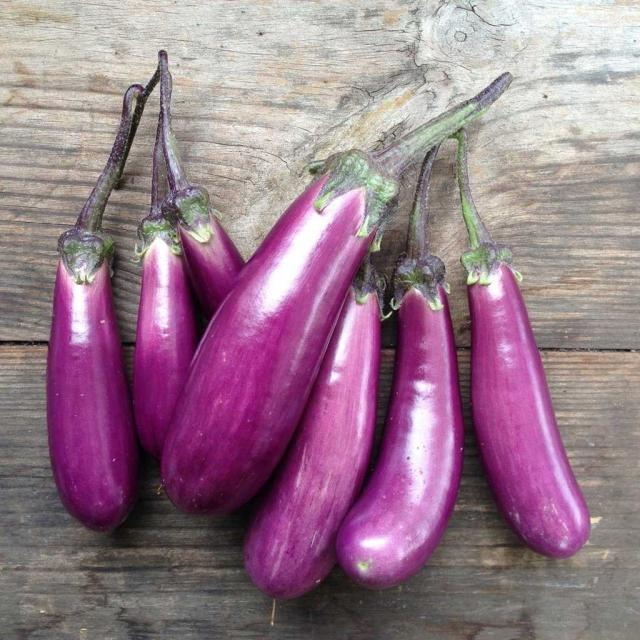Eggplant-r1Ob: (161, 74, 511, 513), (456, 130, 590, 558), (336, 146, 464, 588), (244, 260, 385, 599), (46, 85, 149, 530), (132, 120, 198, 458)
